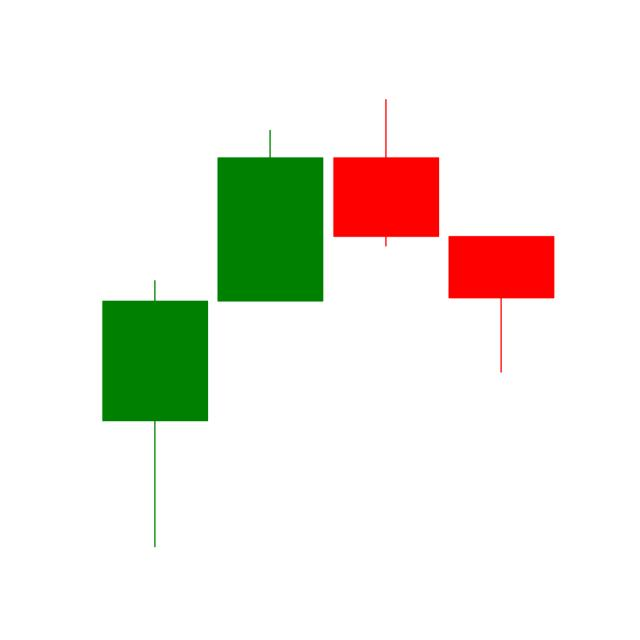Hanging Man: (443, 236, 566, 376)
Shooting Star: (330, 95, 442, 251)
